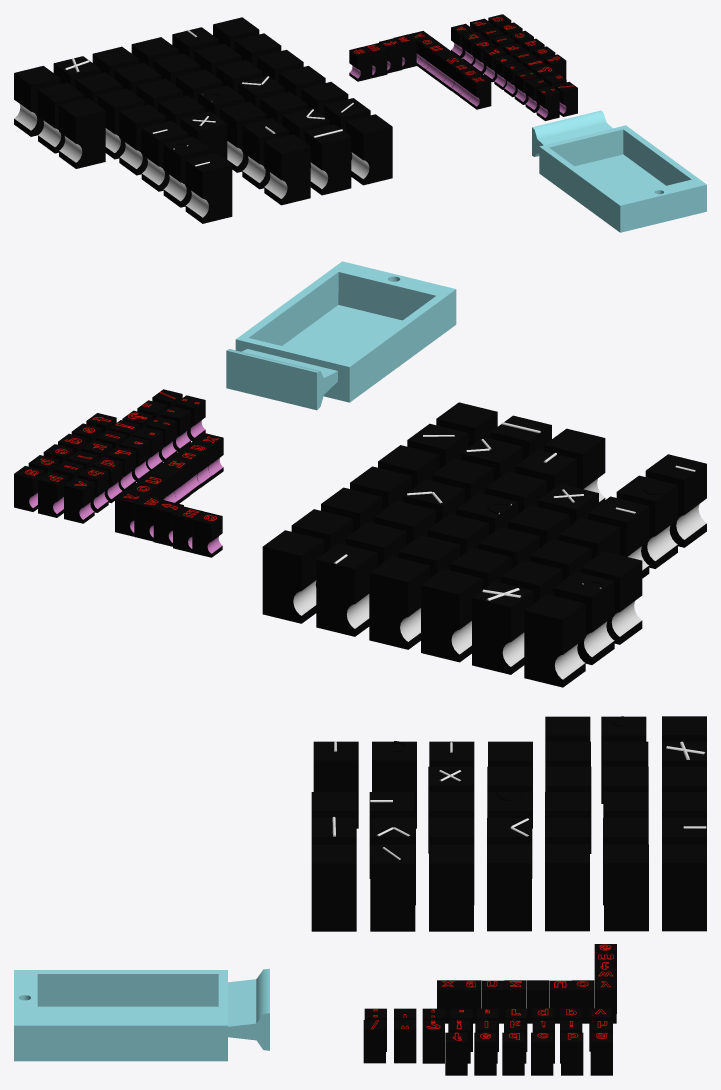
The model's file is Punctuation.fbx.
3 views of the same model, one above another, from view 1: azimuth 30°, elevation 25°; view 2: azimuth 150°, elevation 25°; view 3: azimuth 270°, elevation 25° (orthographic). The views are drawn at different scales.
Parts seen in each view (by area): view 1: Box001, SpaceWord33, SpaceWord36, SpaceWord21, SpaceWord07, SpaceWord14, SpaceWord34, SpaceWord30, SpaceWord31, SpaceWord32, SpaceWord20, SpaceWord35 (+47 smaller); view 2: Box001, SpaceWord34, SpaceWord01, SpaceWord08, SpaceWord15, SpaceWord22, SpaceWord27, SpaceWord35, SpaceWord33, SpaceWord36, SpaceWord32, Box002 (+43 smaller); view 3: Box001, SpaceWord07, SpaceWord06, SpaceWord01, SpaceWord02, SpaceWord03, SpaceWord04, SpaceWord05, SpaceWord33, SpaceWord32, Box002, SpaceWord35 (+43 smaller).
Part boxes in pixels (box(x1,y1,x2,y2)): Box001: box(539, 125, 706, 232); SpaceWord33: box(185, 153, 232, 223); SpaceWord36: box(59, 98, 105, 168); SpaceWord21: box(264, 134, 310, 205); SpaceWord07: box(346, 114, 392, 185); SpaceWord14: box(305, 124, 351, 195); SpaceWord34: box(14, 66, 60, 136); SpaceWord30: box(119, 104, 165, 175); SpaceWord31: box(141, 120, 188, 191); SpaceWord32: box(163, 136, 209, 207); SpaceWord20: box(242, 118, 288, 189); SpaceWord35: box(38, 82, 84, 153); Box001: box(235, 261, 456, 402); SpaceWord34: box(524, 594, 585, 687); SpaceWord01: box(262, 530, 323, 623); SpaceWord08: box(316, 543, 377, 636); SpaceWord15: box(369, 556, 430, 649); SpaceWord22: box(421, 569, 482, 662); SpaceWord27: box(472, 581, 533, 674); SpaceWord35: box(553, 571, 614, 664); SpaceWord33: box(645, 454, 706, 547); SpaceWord36: box(581, 551, 642, 644); SpaceWord32: box(616, 475, 677, 568); Box002: box(226, 349, 337, 391); Box001: box(14, 970, 227, 1061); SpaceWord07: box(311, 844, 356, 931); SpaceWord06: box(370, 844, 415, 931); SpaceWord01: box(662, 844, 706, 931); SpaceWord02: box(604, 844, 648, 931); SpaceWord03: box(545, 844, 589, 931); SpaceWord04: box(487, 844, 531, 931); SpaceWord05: box(429, 844, 473, 931); SpaceWord33: box(313, 741, 358, 828); SpaceWord32: box(372, 741, 416, 828); Box002: box(228, 968, 269, 1032); SpaceWord35: box(601, 716, 646, 803).
Bounding box in the file's own units: 119 × 13.32 × 120.
